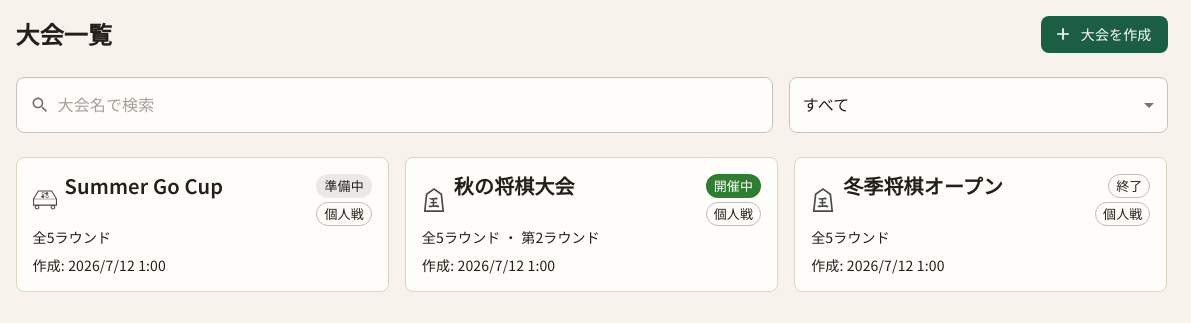
Test case: TournamentListPage › TRN-AC-021: 状態フィルタで、選択した状態の大会だけが表示される
The image size is (1191, 323).
Expected: the heading "Summer Go Cup" is shown, x1=64 y1=174 x2=223 y2=220
Click the dropdown named "状態で絞り込み". click: (826, 104)
box: x1=803 y1=92 x2=850 y2=116
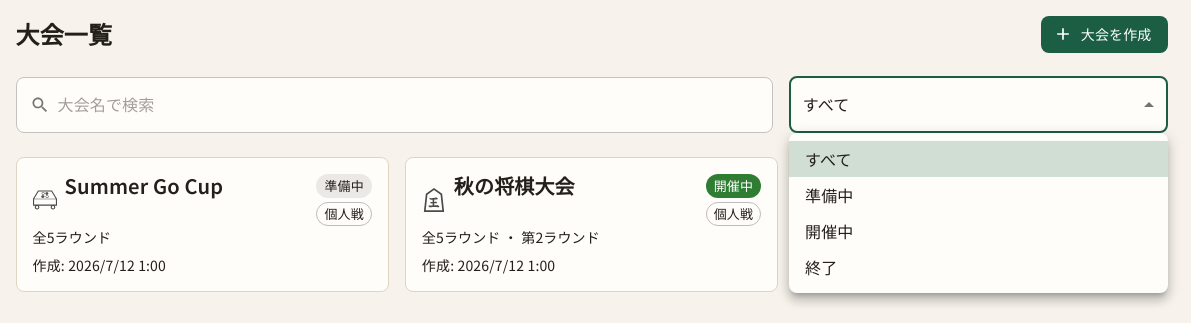
Click the option "開催中". click: (829, 231)
box: x1=805 y1=219 x2=854 y2=243
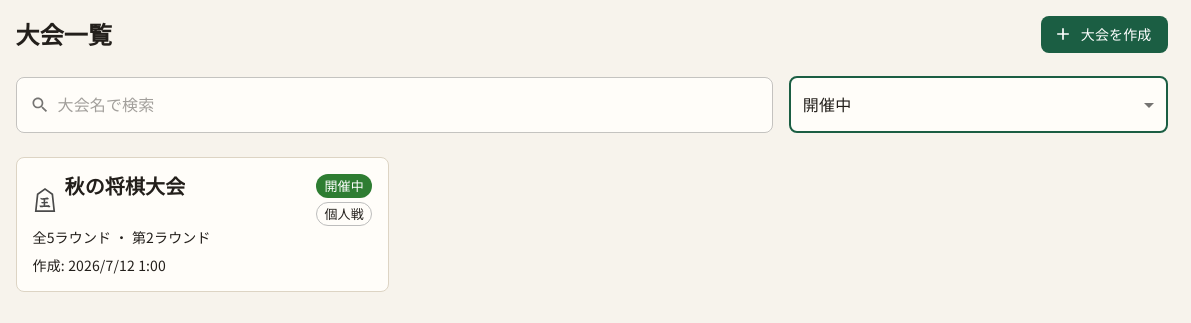
Expected: the heading "秋の将棋大会" is shown, x1=64 y1=174 x2=185 y2=220
Expected: the link "Summer Go Cup" is gone
Expected: the link "冬季将棋オープン" is gone
